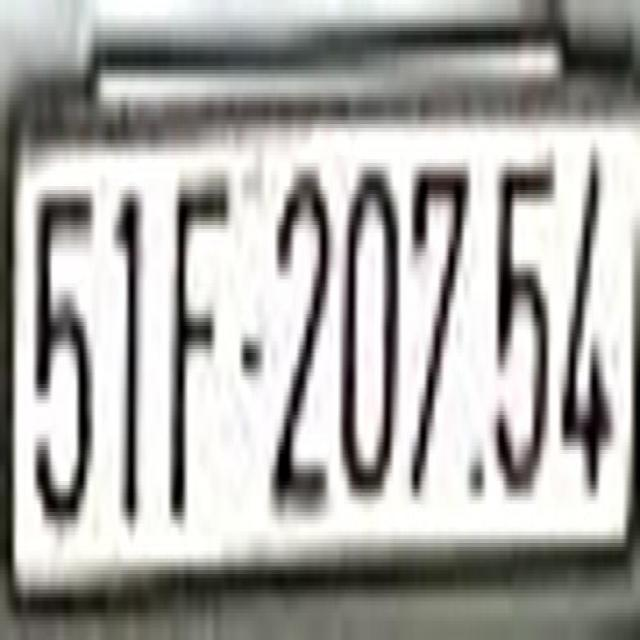0: (339, 148, 398, 500)
1: (112, 162, 144, 536)
2: (269, 159, 330, 528)
4: (564, 140, 616, 512)
5: (29, 175, 96, 540), (490, 151, 552, 508)
7: (408, 147, 470, 512)
F: (168, 166, 232, 532)
